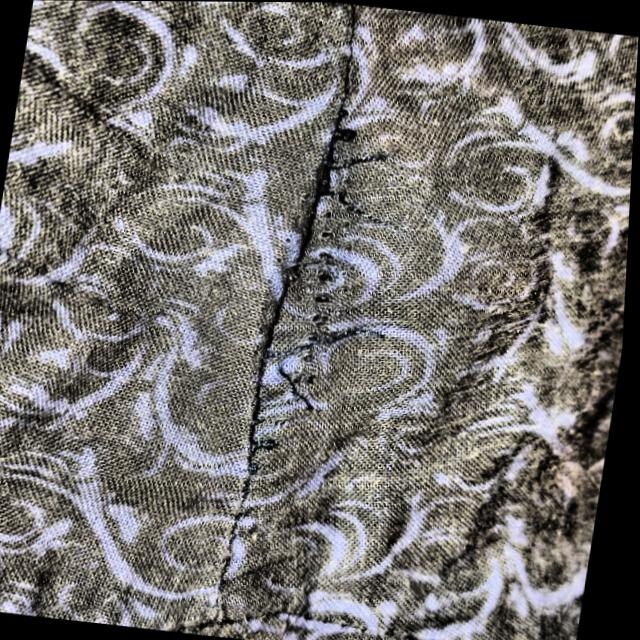seam: (138, 67, 444, 518)
